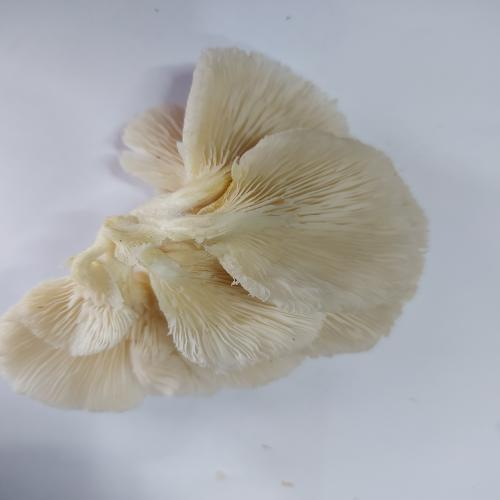Oyster Mushroom: (1, 45, 430, 413)
